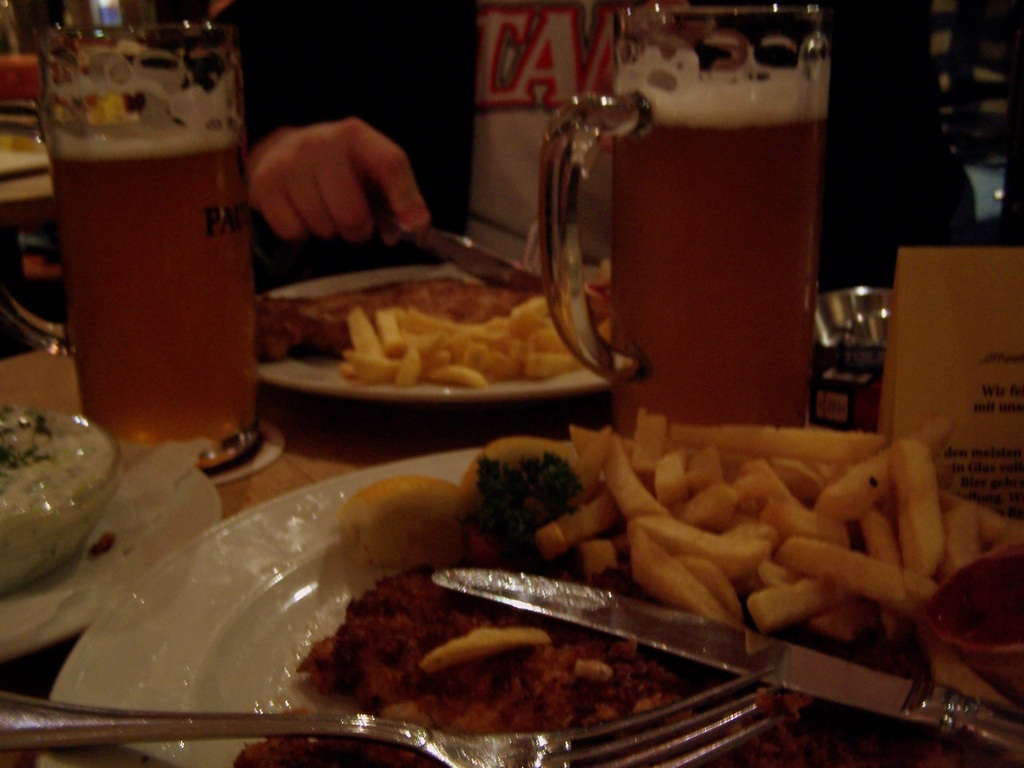French fries: (535, 398, 970, 666), (347, 298, 581, 383)
